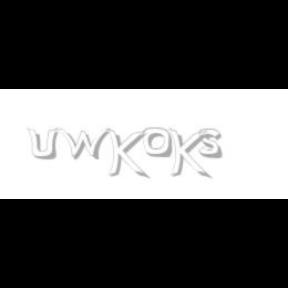K: (106, 128, 146, 180), (168, 128, 208, 180)
o: (142, 128, 171, 158)
s: (199, 128, 227, 160)
u: (26, 128, 62, 160)
w: (56, 128, 114, 160)
